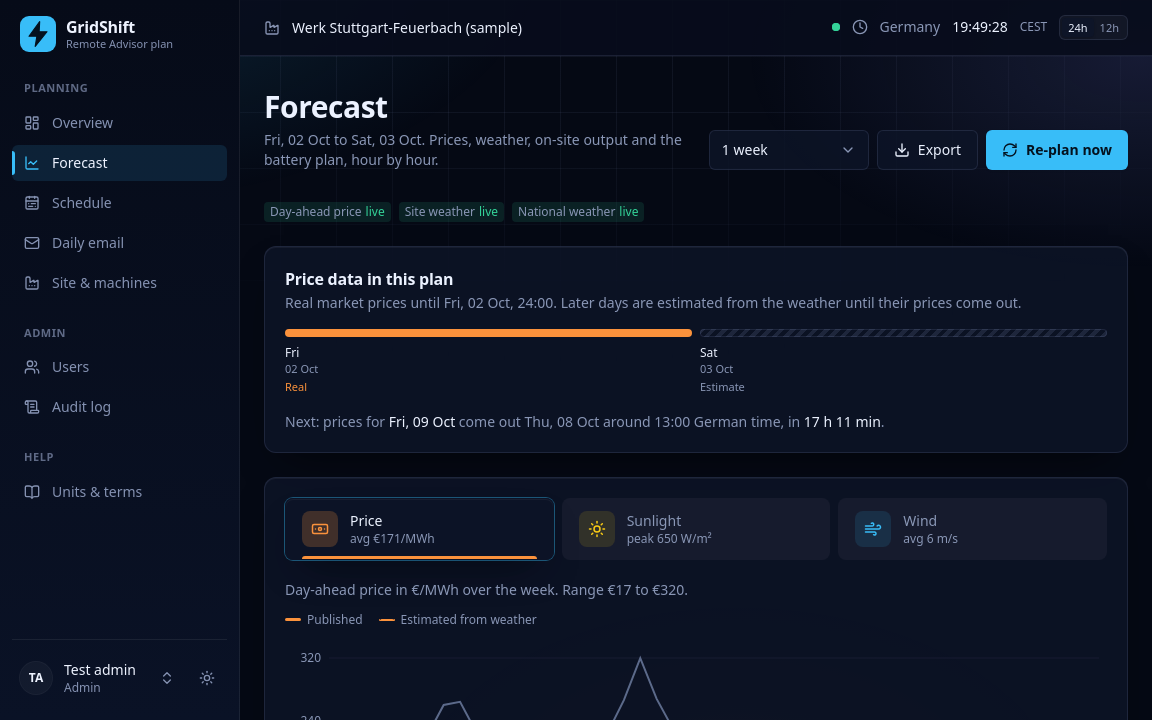
Test: App › shows sunlight and wind on the forecast
Click the tab "Sunlight peak 650 W/m²" at (696, 528), box [562, 498, 830, 560]
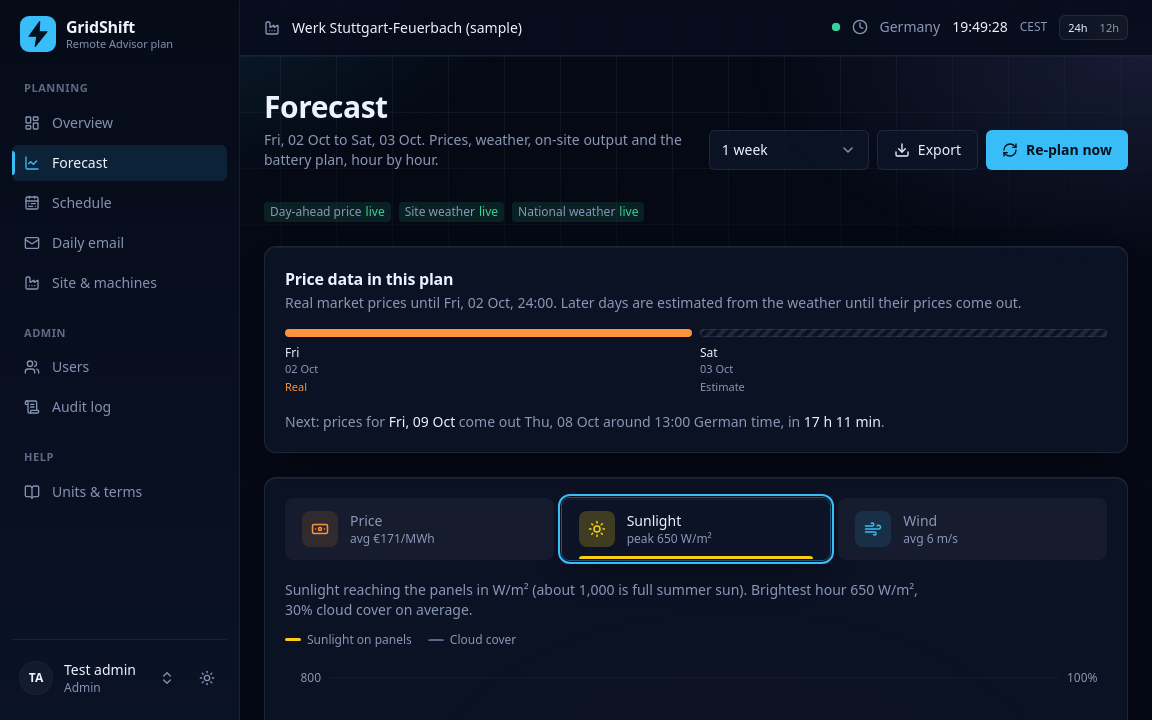
expect the text "Brightest hour 650 W/m², 30% cloud cover on average" is shown: met, box [285, 580, 918, 618]
Click the tab "Wind avg 6 m/s" at (873, 528), box [838, 498, 1107, 560]
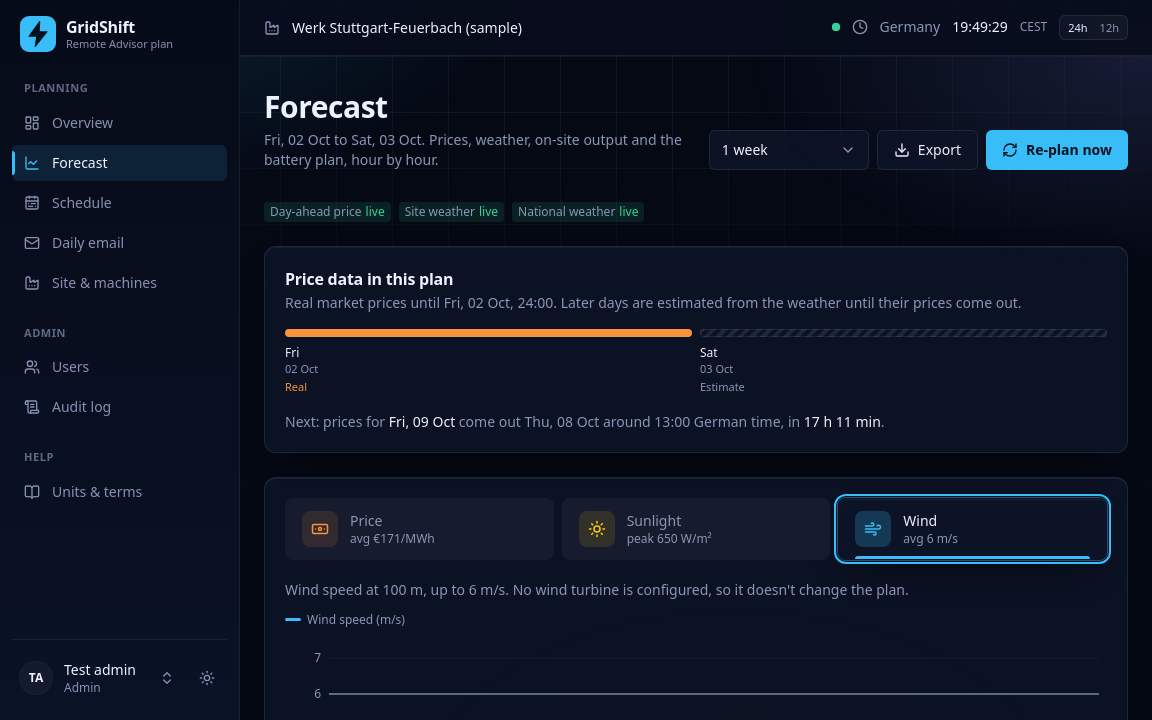
expect the text "No wind turbine is configured" is shown: met, box [285, 580, 909, 598]
